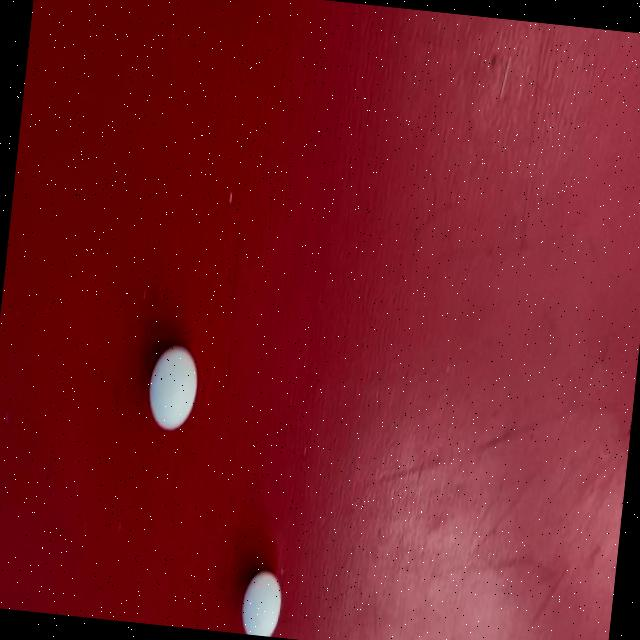ping-pong-ball: (140, 338, 202, 437), (233, 566, 286, 637)
